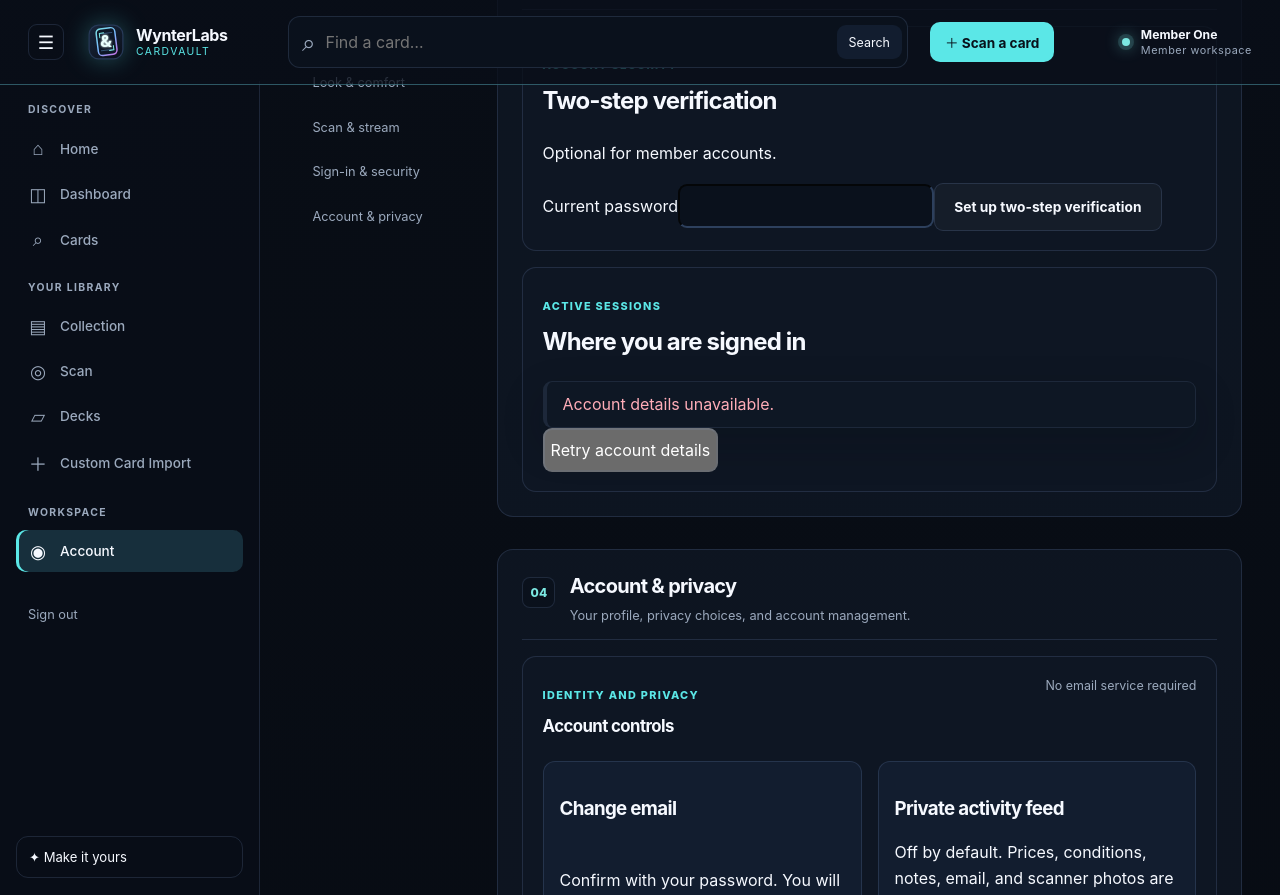
Test: shows a retryable account failure and clears it after a successful retry
The image size is (1280, 895).
(page scrolled)
Check: the message reads "Account details unavailable.", box [563, 394, 774, 414]
Click the button "Retry account details": [630, 450] box [543, 428, 718, 472]
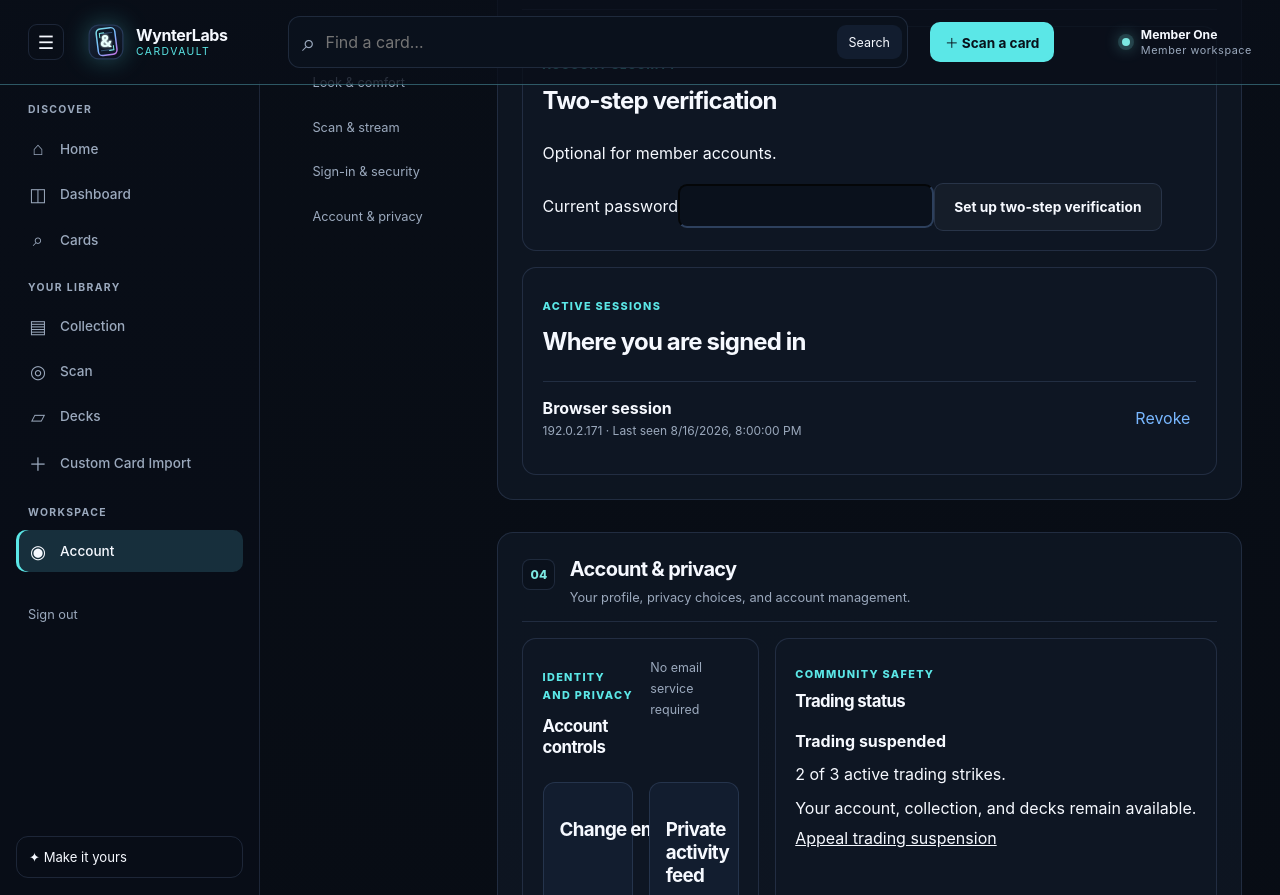
Check: the text "2 of 3 active trading strikes." is shown, box [795, 764, 1006, 784]
Check: the message "Account details unavailable." is gone
